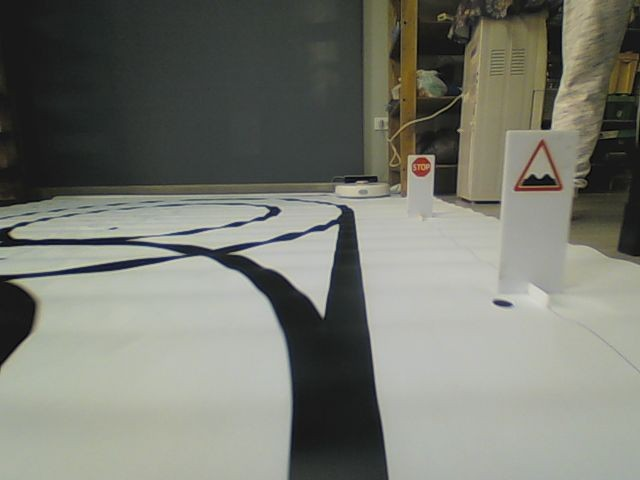Stop: (412, 157, 432, 177)
